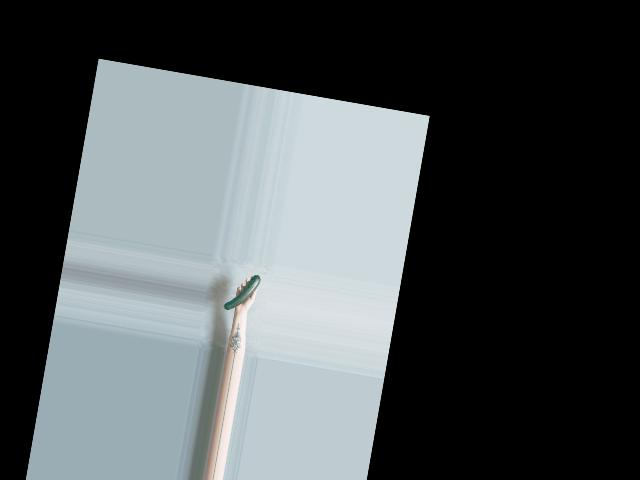cucumber: (223, 270, 260, 314)
